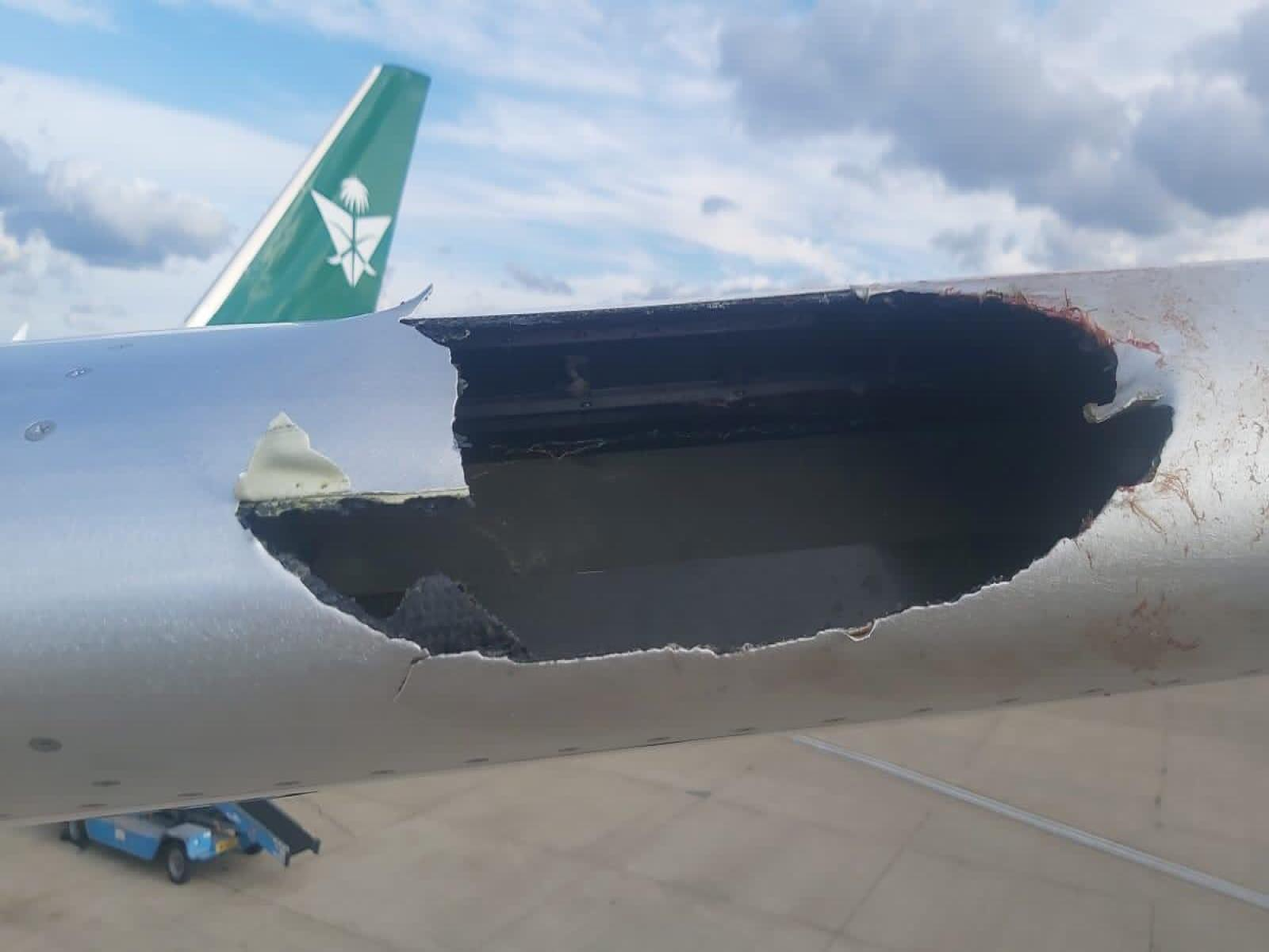Wing_damage: (240, 290, 1175, 661), (235, 411, 351, 502)
